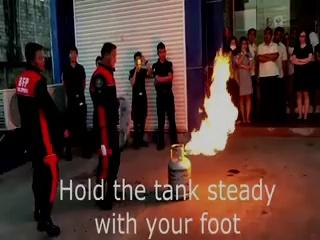Fire: (181, 57, 252, 157)
